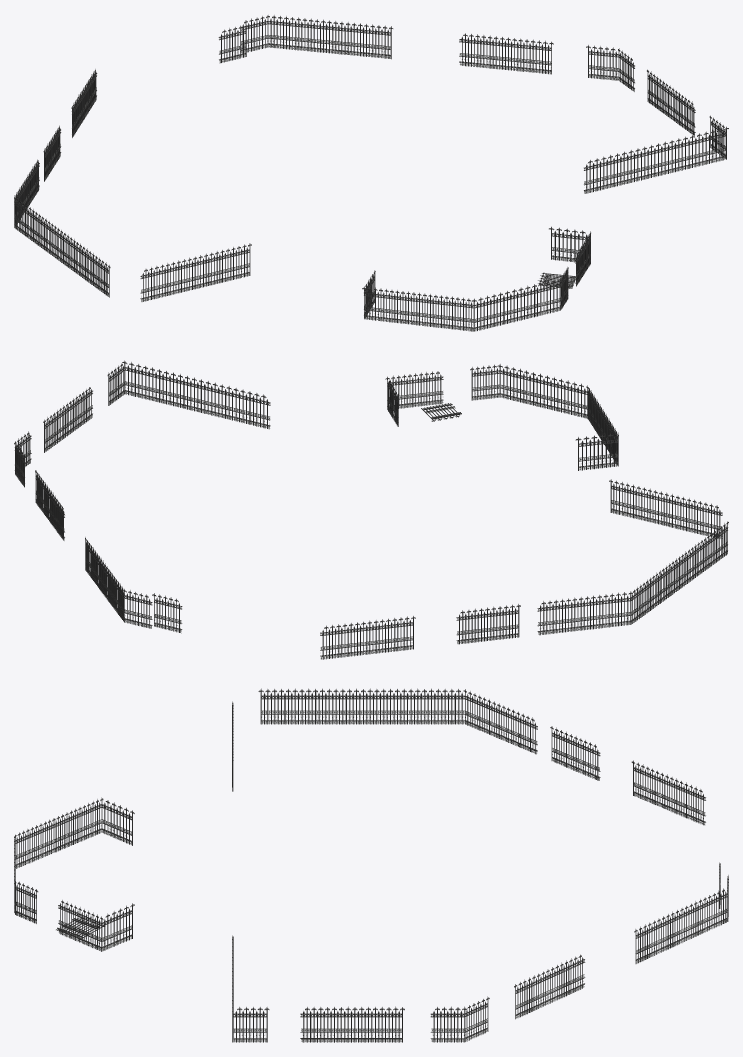
File: fence.dae
3 views of the same model, one above another, from view 1: azimuth 30°, elevation 25°; view 2: azimuth 150°, elevation 25°; view 3: azimuth 270°, elevation 25° (orthographic). The views are drawn at different scales.
Visible parts, largest first — view 1: set_bg06_fence01-geom-P0; view 2: set_bg06_fence01-geom-P0; view 3: set_bg06_fence01-geom-P0.
Boxes of the visible parts, <box> form: set_bg06_fence01-geom-P0: <box>14,15,728,331</box>; set_bg06_fence01-geom-P0: <box>14,360,728,659</box>; set_bg06_fence01-geom-P0: <box>14,688,728,1042</box>.
Bounding box in the file's own units: 111 × 7.97 × 105.
